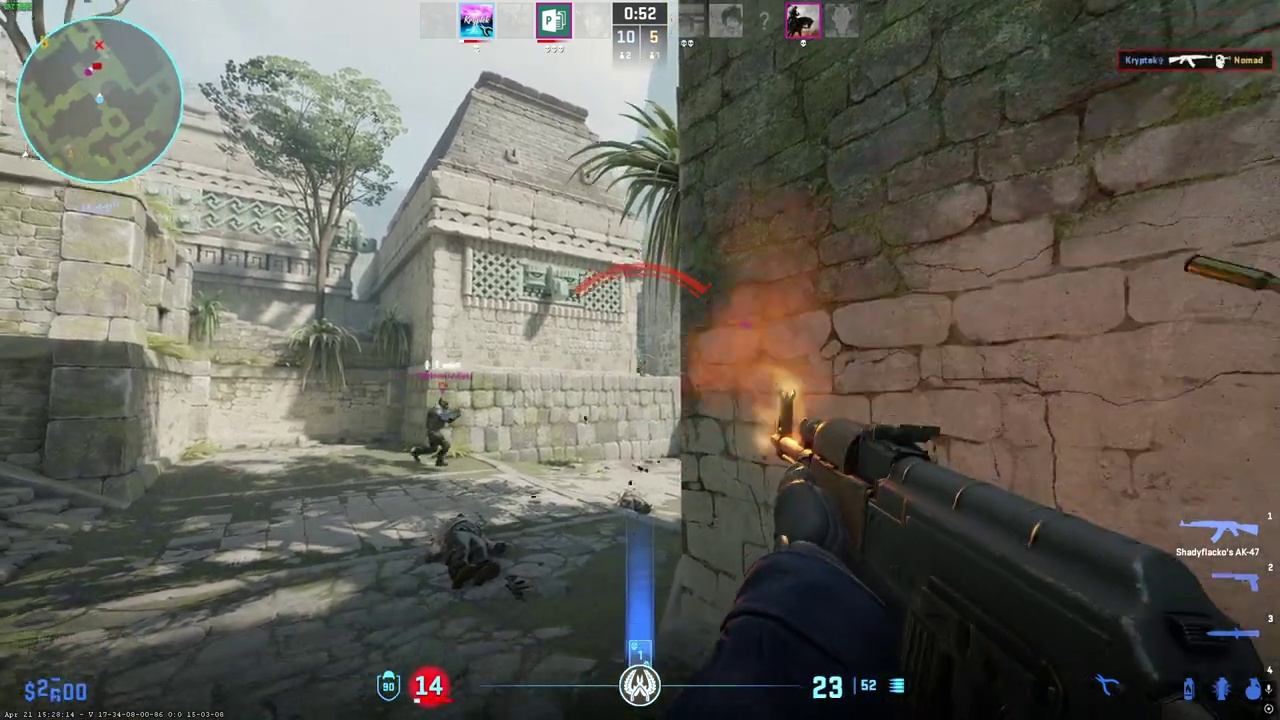CT: (419, 397, 456, 466)
